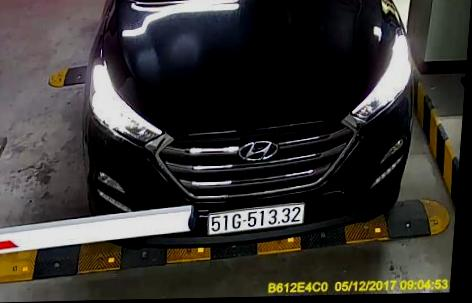License_Plate: (201, 203, 310, 234)
